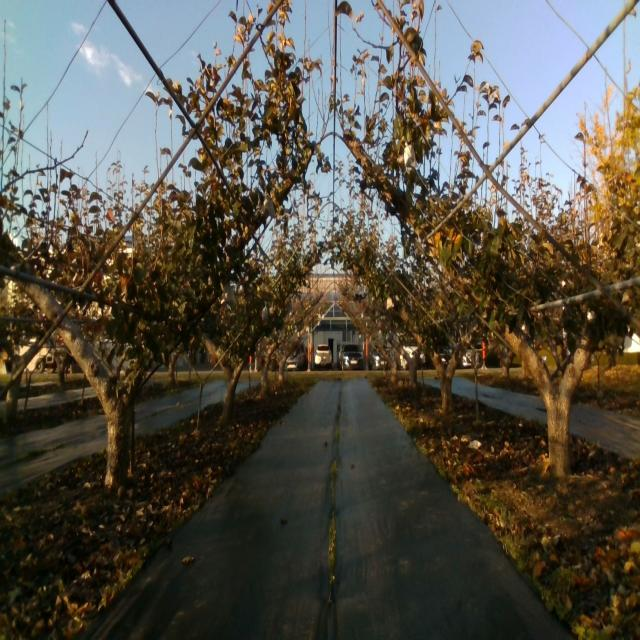pearbags: (261, 192, 276, 216), (404, 142, 417, 166), (221, 286, 236, 304)
